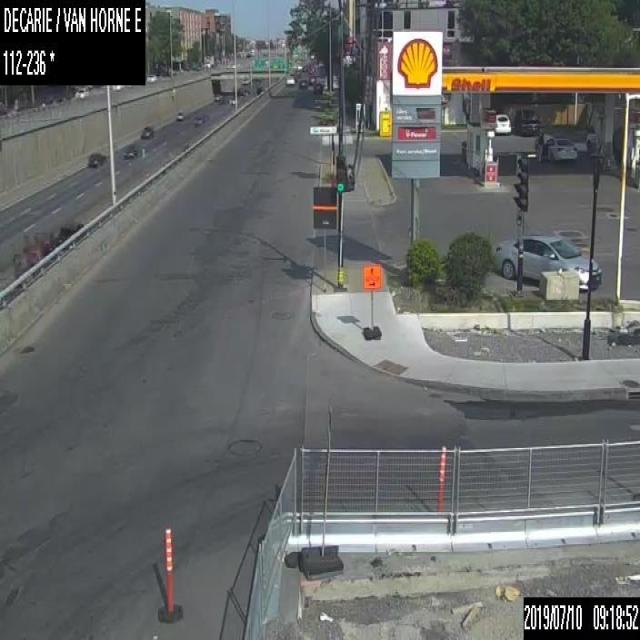construction: (244, 437, 639, 639), (155, 528, 183, 624), (362, 264, 381, 340), (436, 444, 446, 511)
pedestrian: (537, 131, 543, 163)
vehicle: (494, 233, 602, 290), (12, 220, 84, 279), (534, 137, 577, 164), (512, 108, 540, 136), (492, 113, 511, 134), (42, 93, 64, 108), (123, 142, 142, 158), (86, 152, 105, 167), (139, 126, 154, 138), (74, 86, 86, 98), (194, 114, 208, 124), (204, 54, 214, 68), (312, 82, 323, 94), (286, 72, 296, 84), (146, 73, 156, 82), (298, 78, 306, 88), (175, 111, 184, 119), (112, 84, 123, 90), (308, 75, 315, 84), (214, 94, 220, 100)
